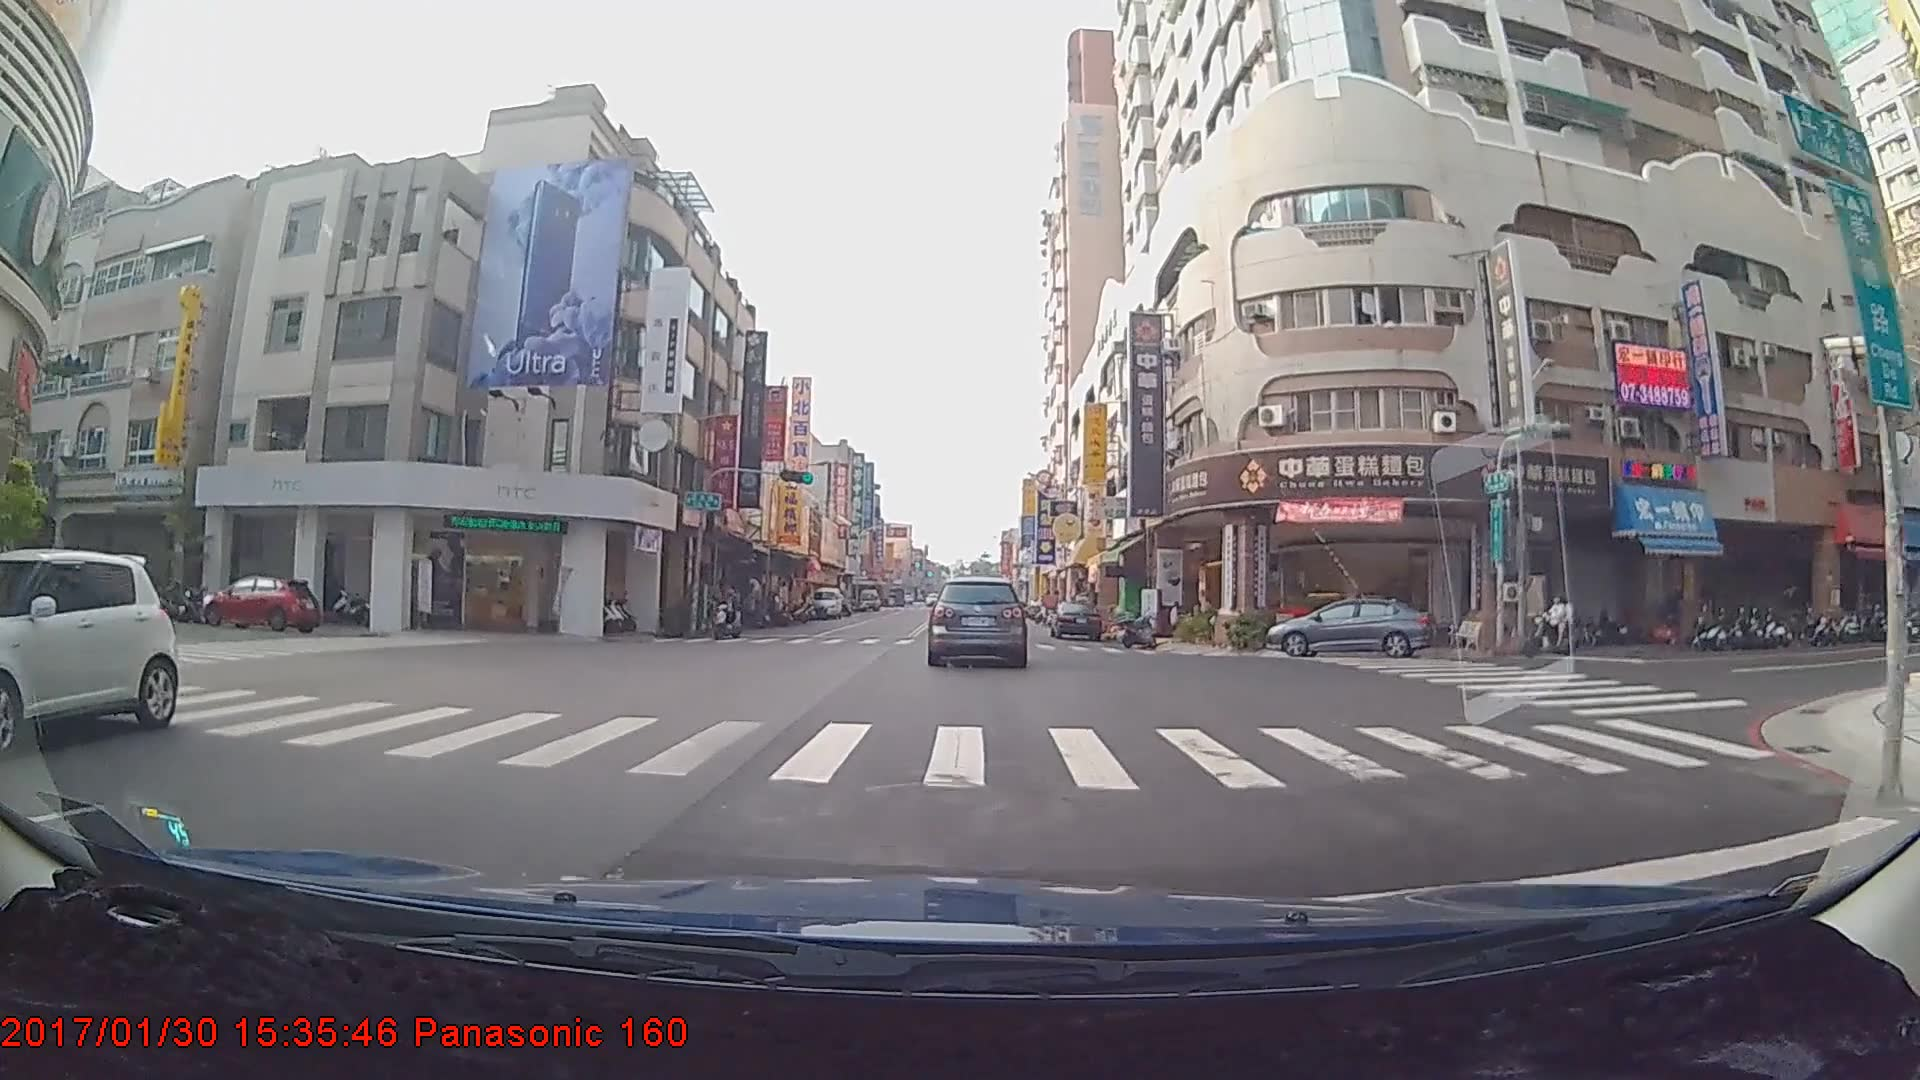rider: (1529, 591, 1589, 652), (708, 578, 745, 638)
vehicle: (0, 546, 179, 762), (1265, 594, 1431, 655), (928, 577, 1026, 667), (205, 573, 320, 634), (1049, 598, 1103, 640), (807, 584, 843, 617)
